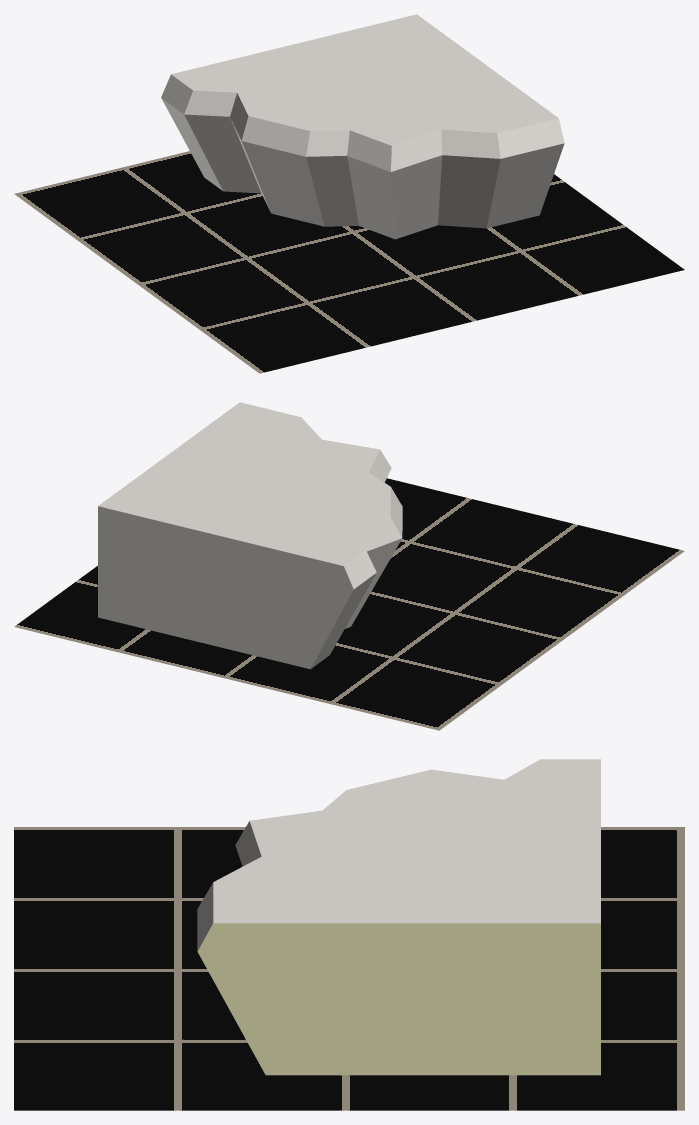
Rendered from Cracked_Curve_Outer_3x3_1_Top.glb.
3 renders of one model, top to bottom at view 1: azimuth 30°, elevation 25°; view 2: azimuth 150°, elevation 25°; view 3: azimuth 270°, elevation 25°, orthographic. The views are drawn at different scales.
Parts seen in each view (by area): view 1: Floor, Cracked_Curve_Outer_3x3_1_Top; view 2: Cracked_Curve_Outer_3x3_1_Top, Floor; view 3: Cracked_Curve_Outer_3x3_1_Top, Floor.
Part boxes in pixels (bbox=[...]): Floor: bbox=[14, 151, 684, 373]; Cracked_Curve_Outer_3x3_1_Top: bbox=[161, 14, 564, 239]; Cracked_Curve_Outer_3x3_1_Top: bbox=[98, 402, 402, 669]; Floor: bbox=[14, 478, 684, 730]; Cracked_Curve_Outer_3x3_1_Top: bbox=[197, 759, 600, 1075]; Floor: bbox=[14, 827, 684, 1110].
Bounding box in the file's own units: 400 × 100 × 400.
Materials: 3 (1 with a texture image).
